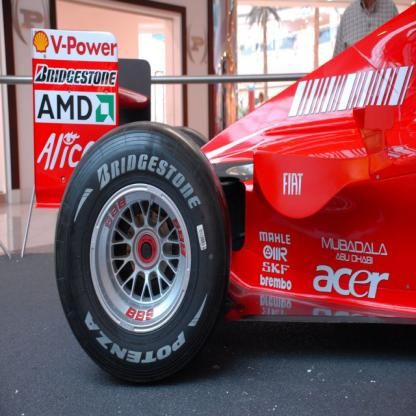Car: (54, 5, 416, 380)
